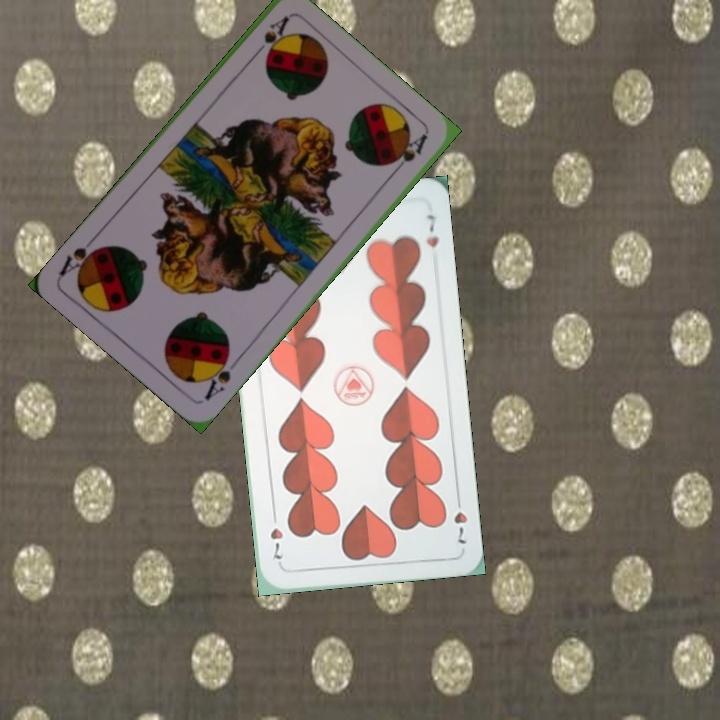H7: (450, 491, 470, 547)
SA: (199, 348, 242, 404), (247, 12, 292, 62)
